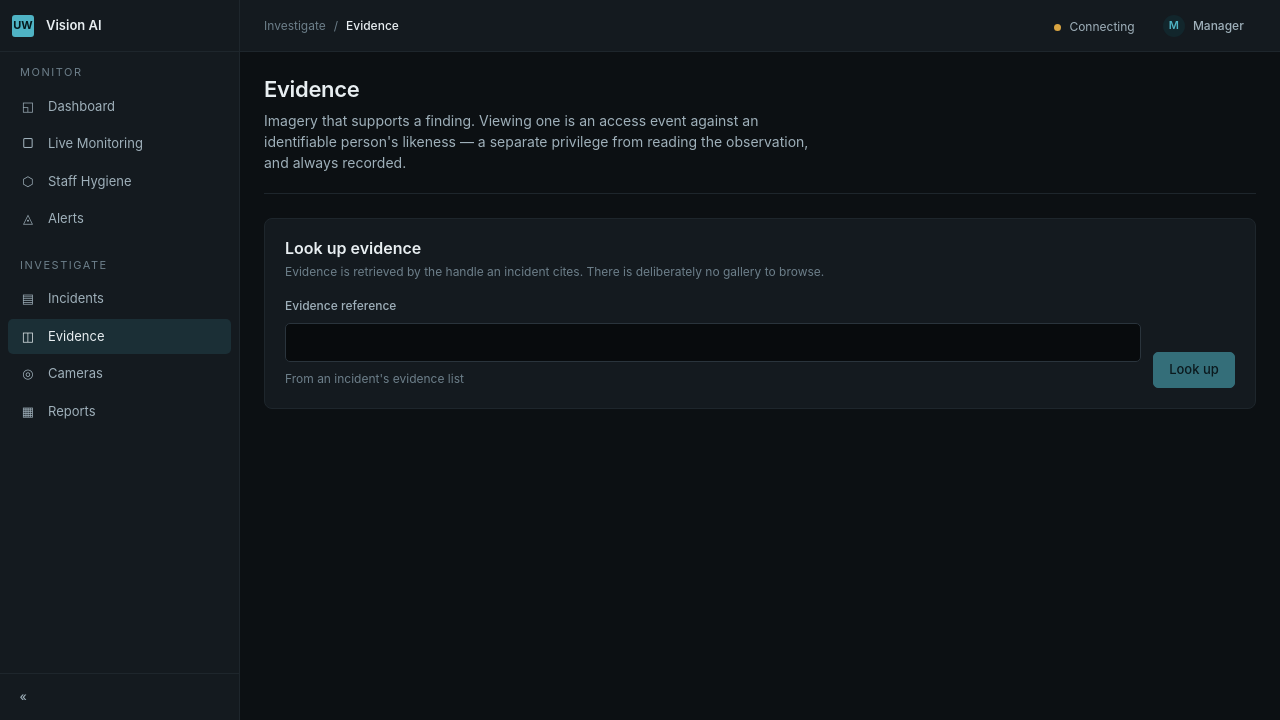
Test: the evidence page › refuses expired evidence and explains that retention governs what is shown
Type "ev-1" into the field labelled "Evidence reference" at (713, 342), box [285, 323, 1141, 362]
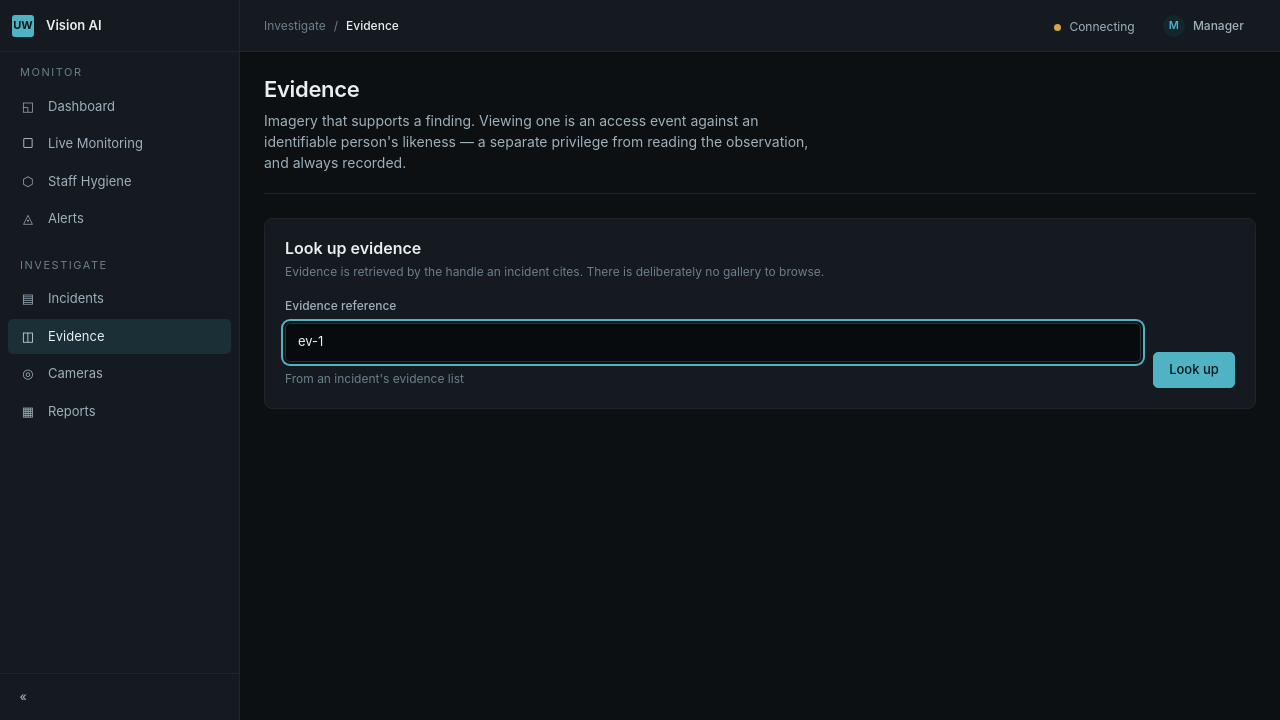
Click the button "Look up" at (1194, 370), box [1153, 352, 1235, 388]
(page scrolled)
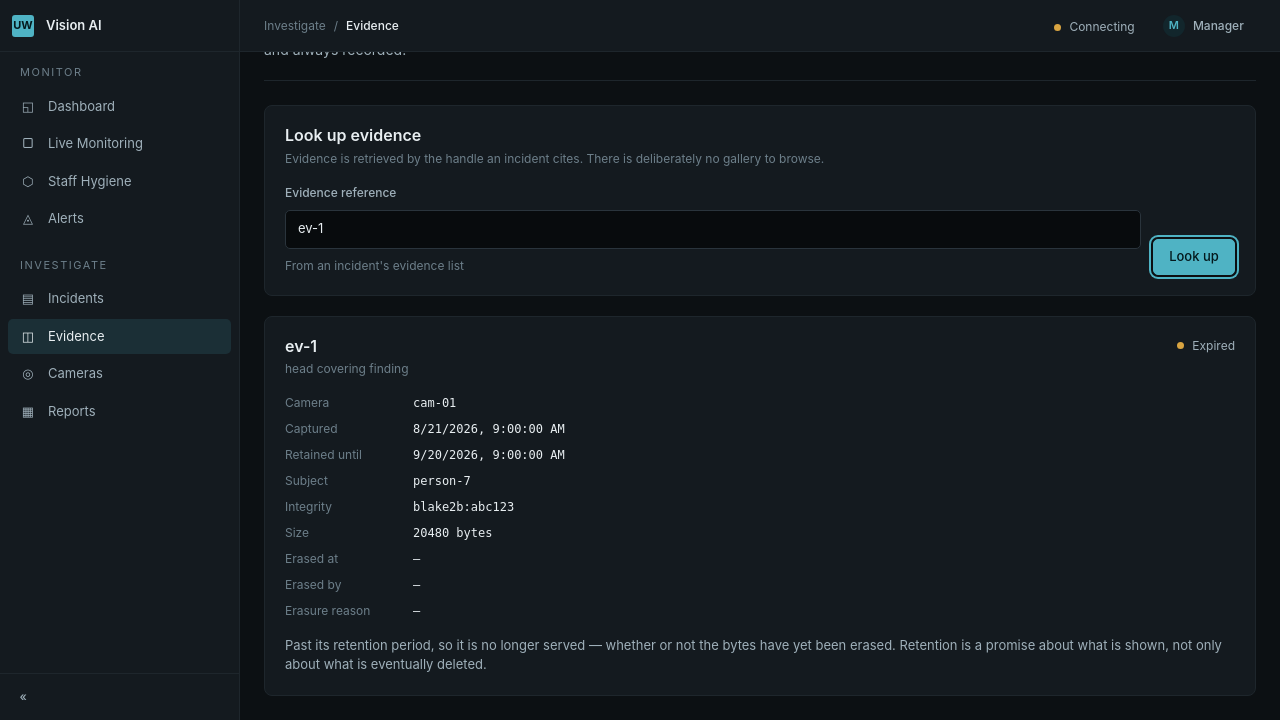
Expected: the text "Expired" is shown, [1177, 337, 1235, 355]
Expected: the text "no longer served" is shown, [285, 637, 1222, 672]
